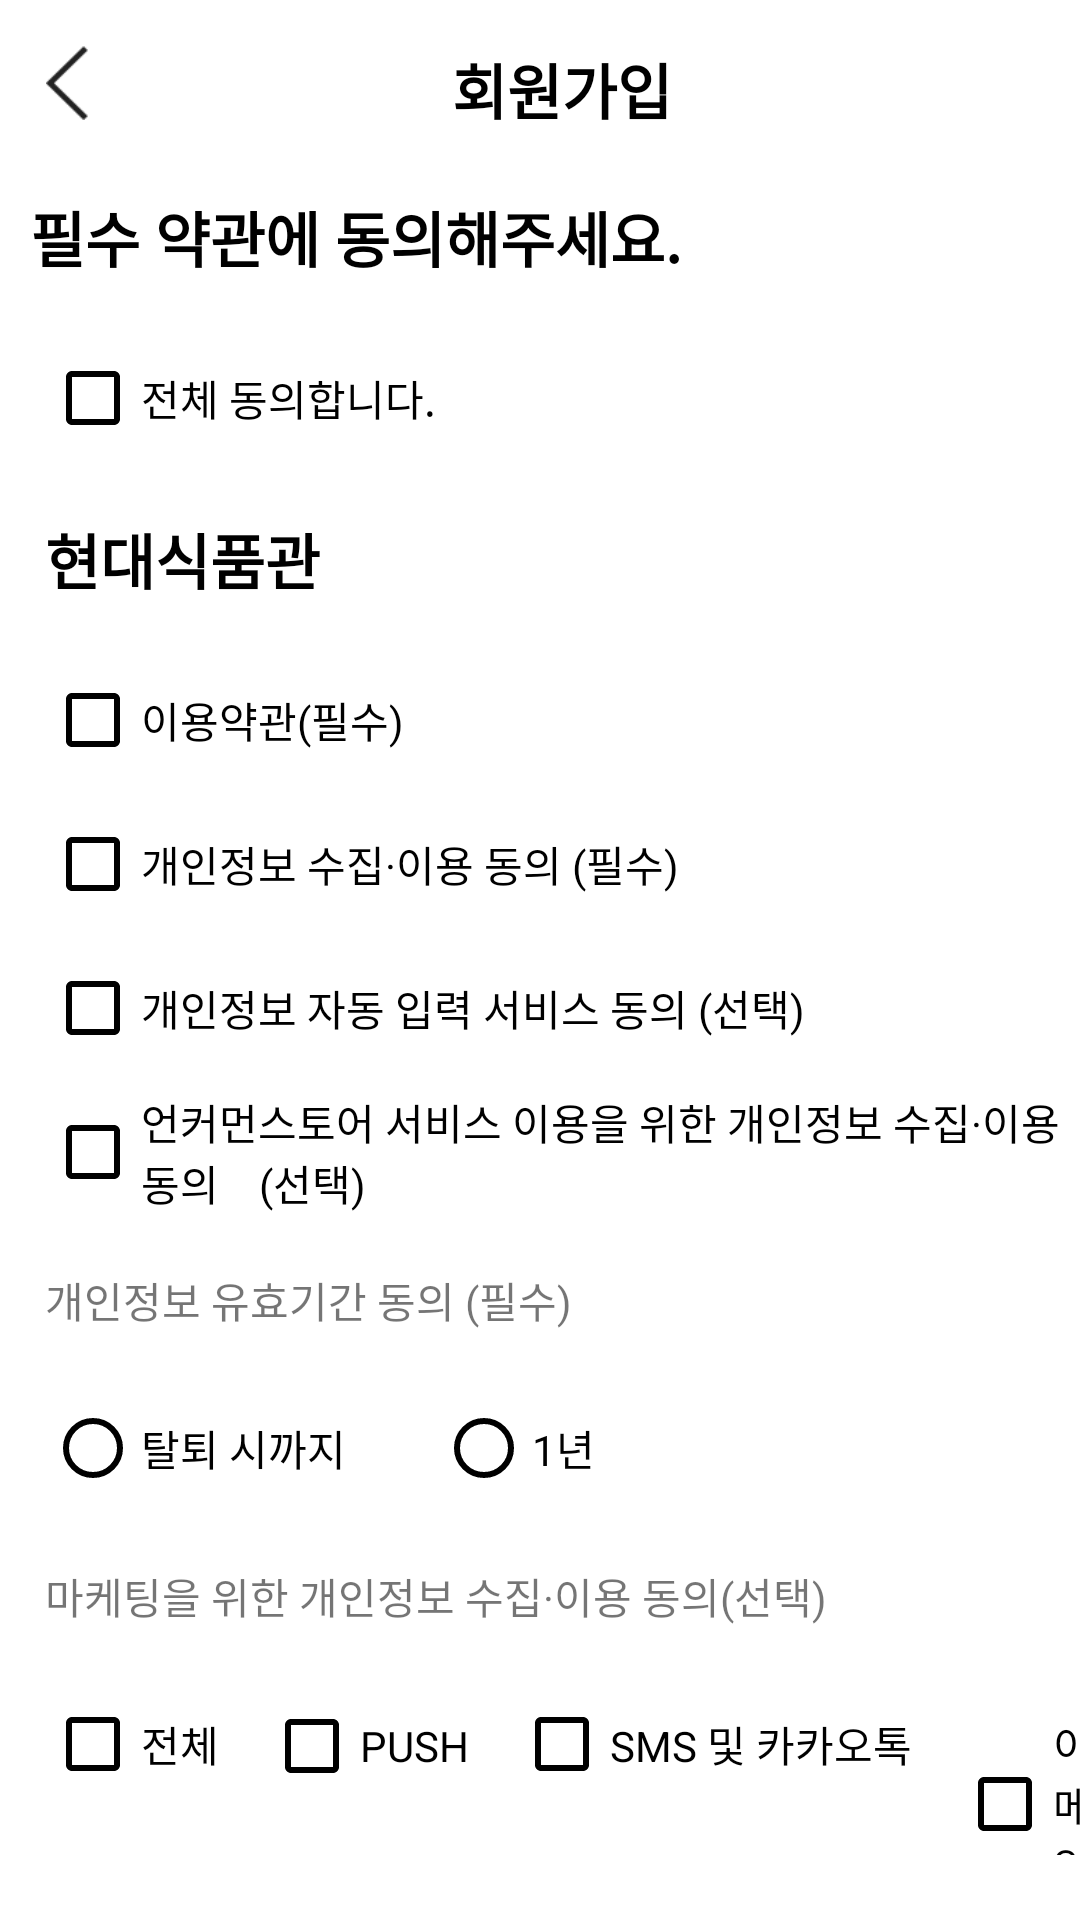

Point at icon controls on the screen. Image size 1080w x 1920h, points as [x,y].
arrow: [67,83]
